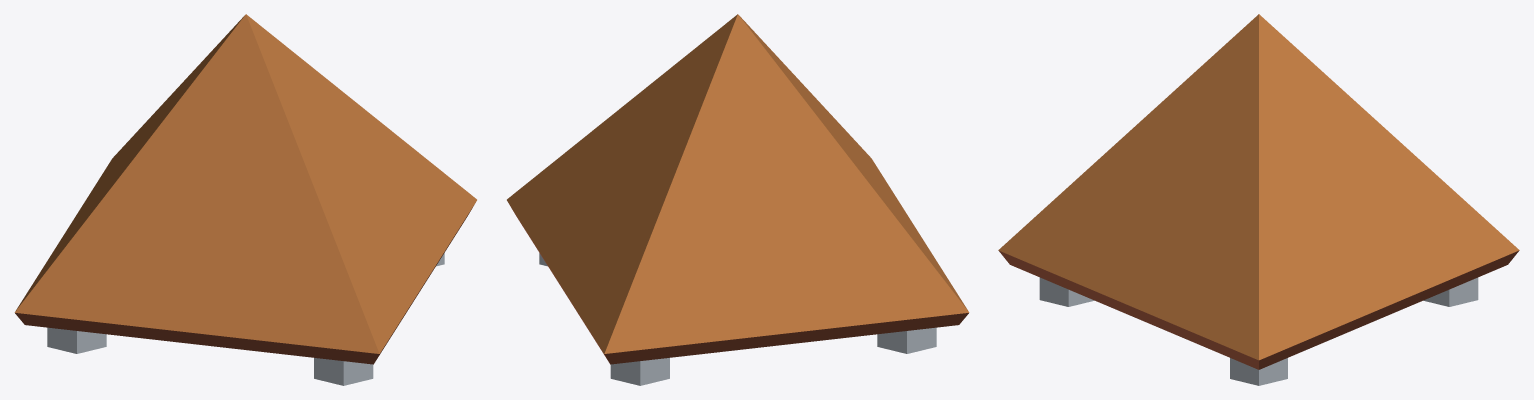
Rendered from desert_pyramid.fbx.
The picture shows the model from 3 angles, left to right: view 1: azimuth 30°, elevation 25°; view 2: azimuth 150°, elevation 25°; view 3: azimuth 270°, elevation 25°; orthographic projection. The views are drawn at different scales.
Visible parts, largest first — view 1: desert_pyramid; view 2: desert_pyramid; view 3: desert_pyramid.
Boxes of the visible parts, bbox=[...] form: desert_pyramid: bbox=[14, 14, 476, 385]; desert_pyramid: bbox=[507, 14, 969, 385]; desert_pyramid: bbox=[998, 14, 1519, 385].
Bounding box in the file's own units: 137 × 80.81 × 137.
